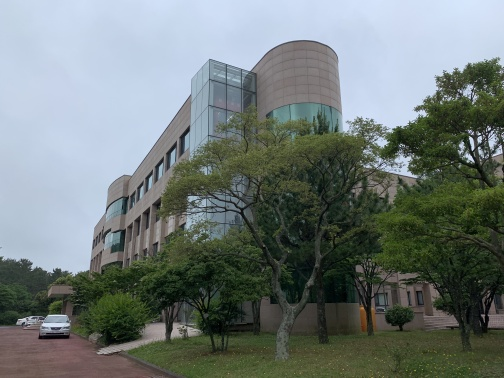Joint Experimental Labs: (94, 36, 344, 249)
